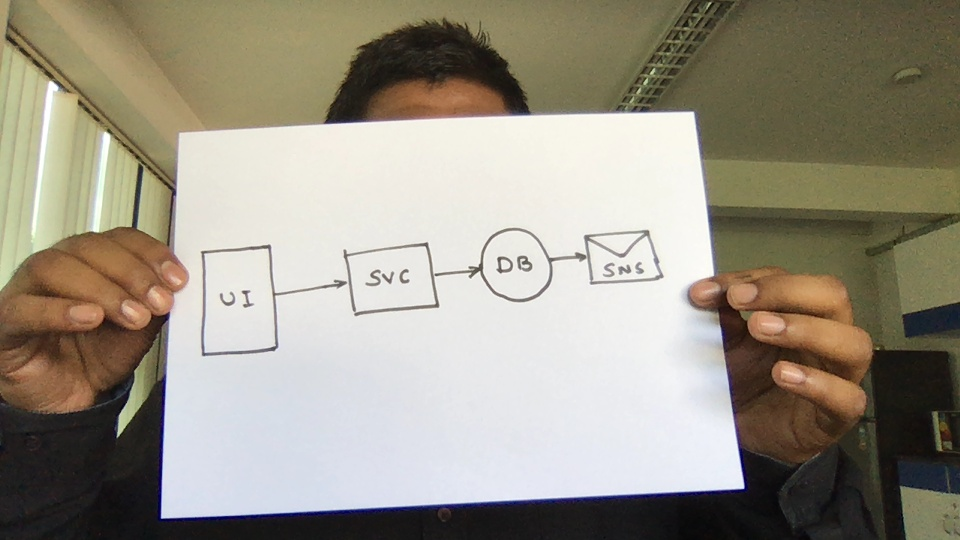db: (475, 221, 557, 309)
ec2: (340, 235, 447, 326)
sns: (579, 225, 669, 297)
ui: (193, 241, 284, 360)
